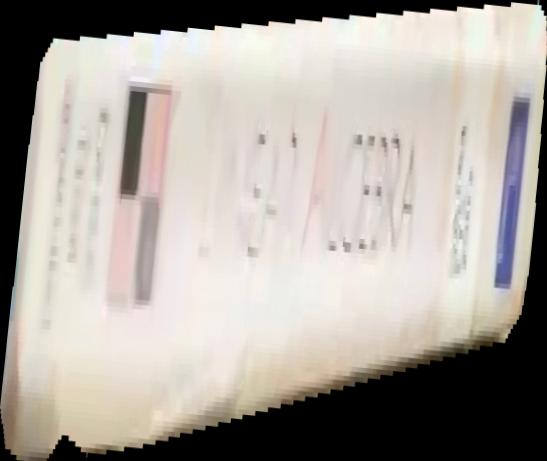flat: (1, 1, 547, 461)
